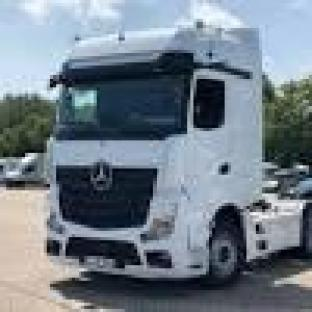Vehicle: (40, 27, 312, 291)
